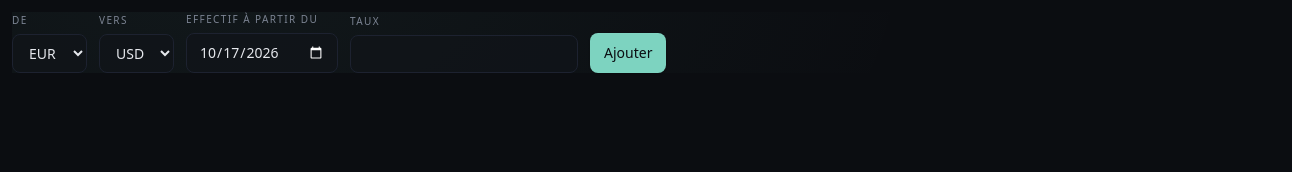
Test: AddRateForm › rejects submit when the rate cannot be parsed
Select "USD" in the dropdown labelled "De" at (50, 54), box [12,34,87,73]
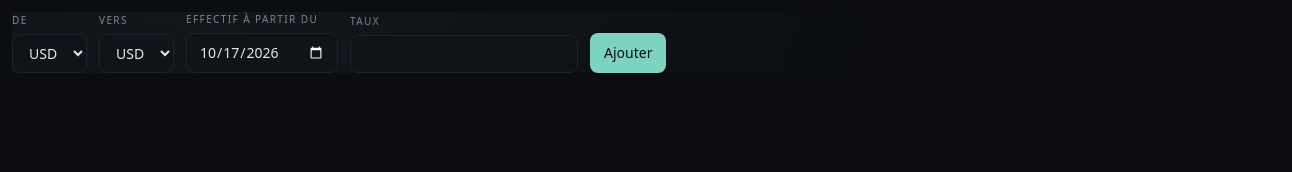
Select "EUR" in the dropdown labelled "Vers" at (136, 54), box [99,34,174,73]
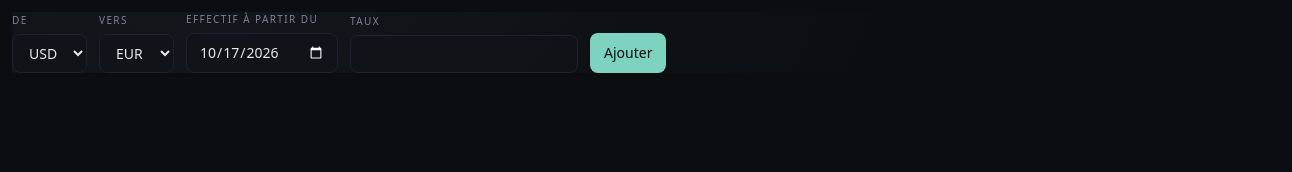
Type "2026-01-01" into the date field labelled "Effectif à partir du" at (262, 53), box [186,33,338,73]
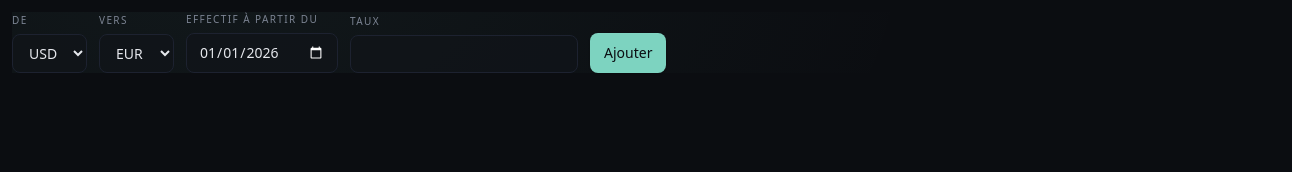
Type "abc" into the field labelled "Taux" at (464, 54), box [350,35,578,73]
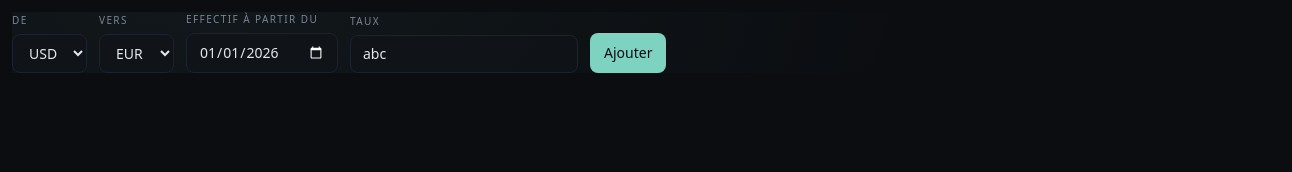
Click the button "Ajouter" at (628, 53), box [590,33,666,73]
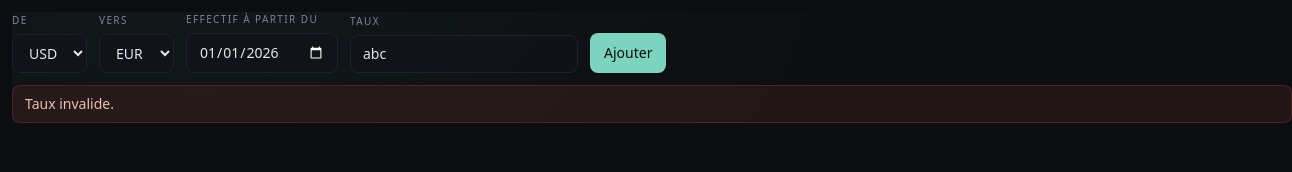
Now the text "Taux invalide." is shown, box [12,85,1291,123]
